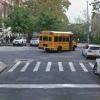Bus: (31, 24, 78, 54)
